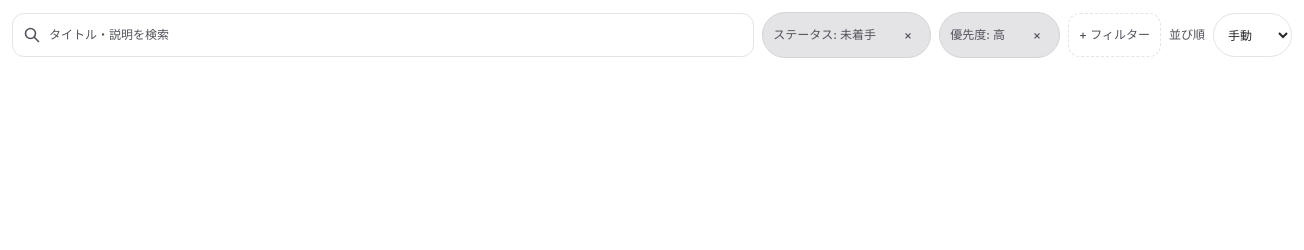
it: TodoFilterBar › 選択済み属性 ["status","priority"] をフィルターメニューから除外する
Click the button with aria-label "フィルターを追加".
click(1114, 35)  # box [1068, 13, 1161, 57]
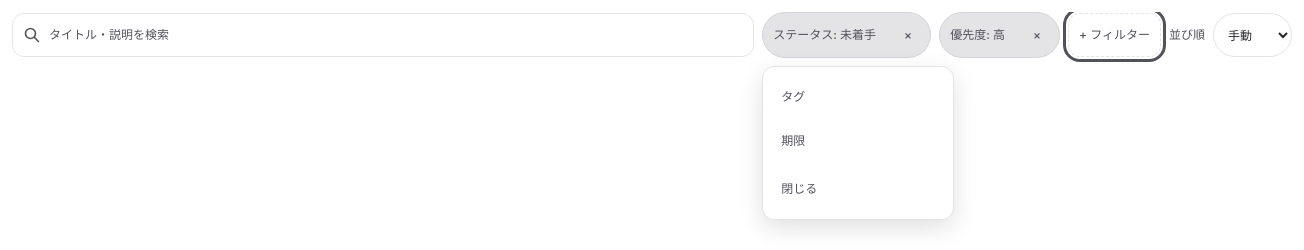
Now the menu item "タグ" is shown, box [771, 75, 945, 119]
Now the menu item "期限" is shown, box [771, 119, 945, 163]
